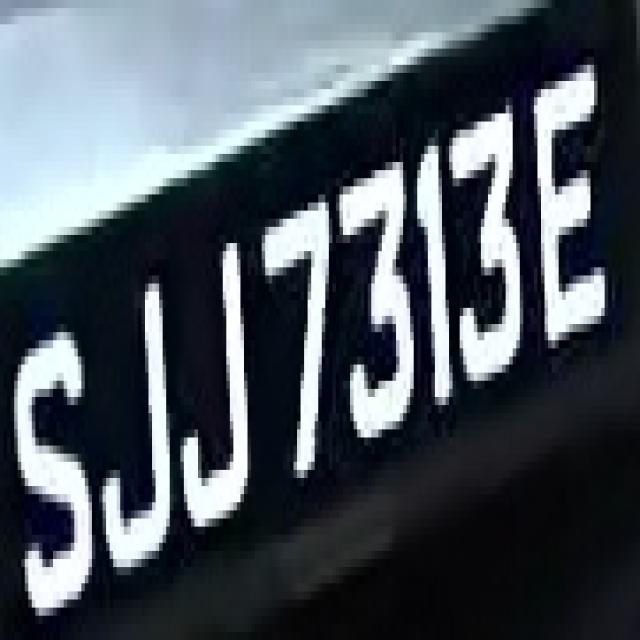1: (407, 106, 456, 422)
3: (431, 97, 527, 397), (325, 154, 414, 445)
7: (255, 187, 332, 510)
E: (520, 48, 612, 356)
J: (92, 235, 184, 575), (173, 211, 258, 551)
S: (0, 4, 1, 8)
